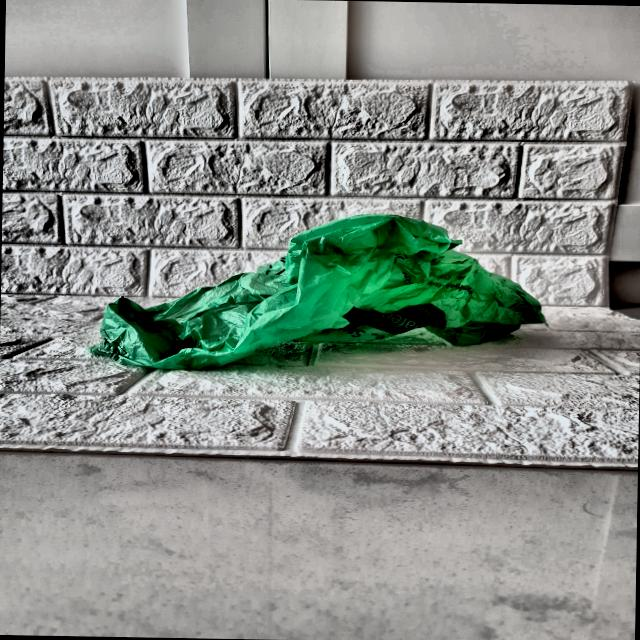plastic bag: (93, 206, 552, 380)
